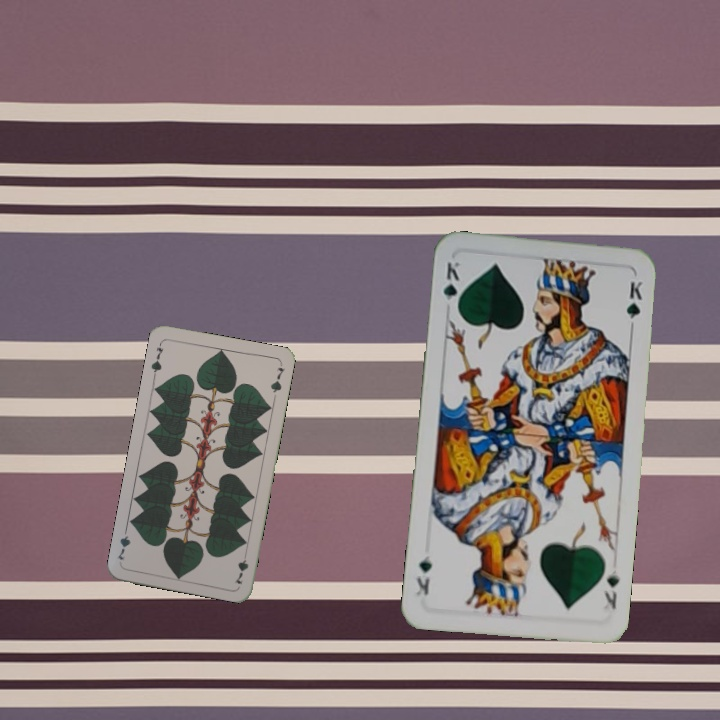G7: (231, 547, 251, 587), (147, 339, 167, 379)
GK: (439, 257, 463, 315), (600, 566, 622, 611)
